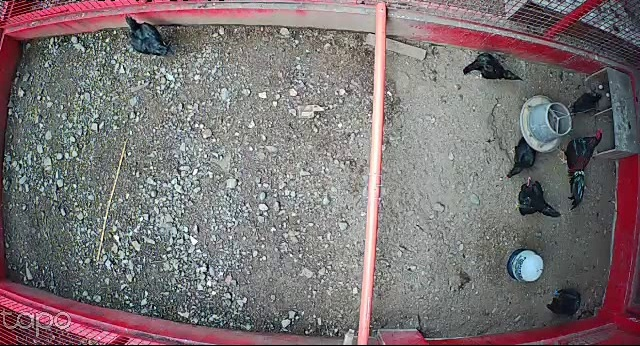Chicken: (121, 12, 175, 59), (459, 50, 525, 85), (512, 175, 562, 219), (506, 135, 538, 181), (543, 285, 582, 318), (568, 92, 603, 117)
Drinker: (505, 249, 546, 284)
Feeder: (518, 96, 574, 153)
Rooster: (555, 127, 603, 212)
